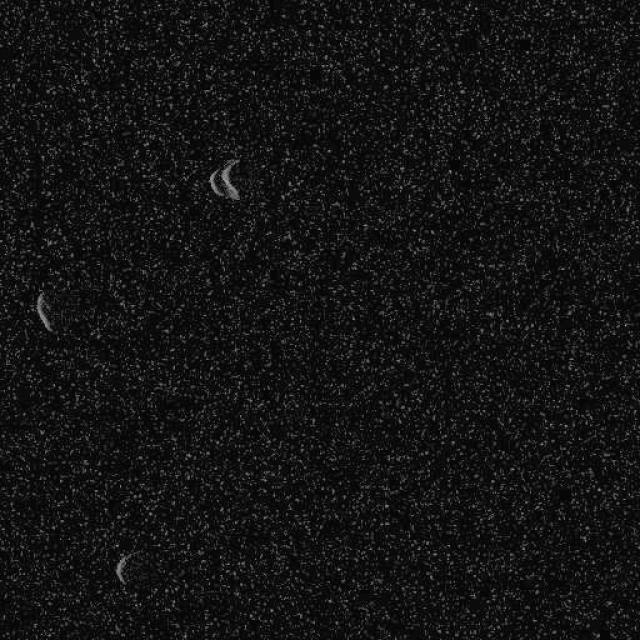D2: (208, 156, 242, 202), (114, 547, 140, 585), (34, 288, 55, 332)
